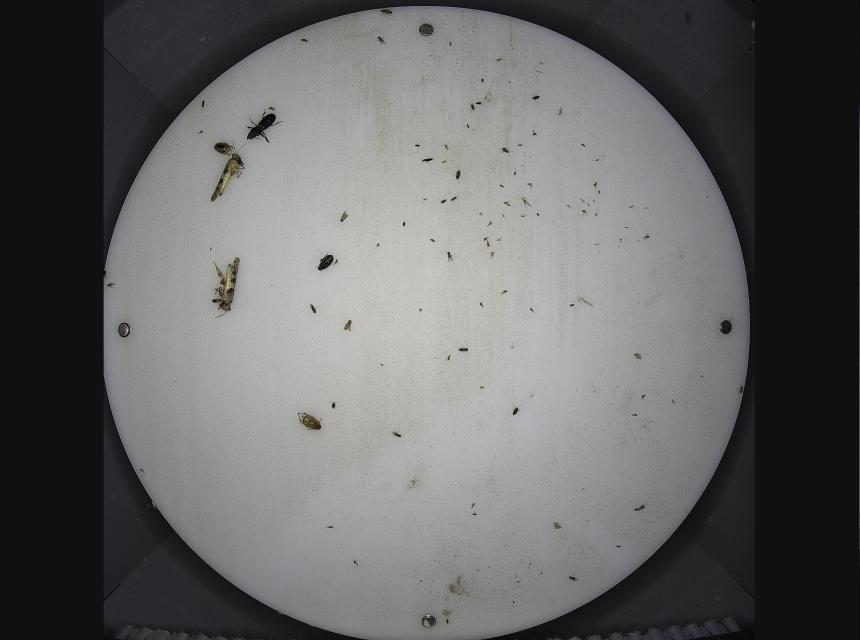insect: (243, 108, 285, 144), (292, 408, 324, 434), (314, 252, 334, 272), (212, 140, 235, 155), (377, 9, 397, 17), (511, 406, 521, 418)
locust: (210, 256, 240, 318), (211, 152, 245, 202)
skeeter: (344, 318, 354, 334), (308, 302, 319, 314), (451, 194, 459, 204), (438, 198, 448, 206)
